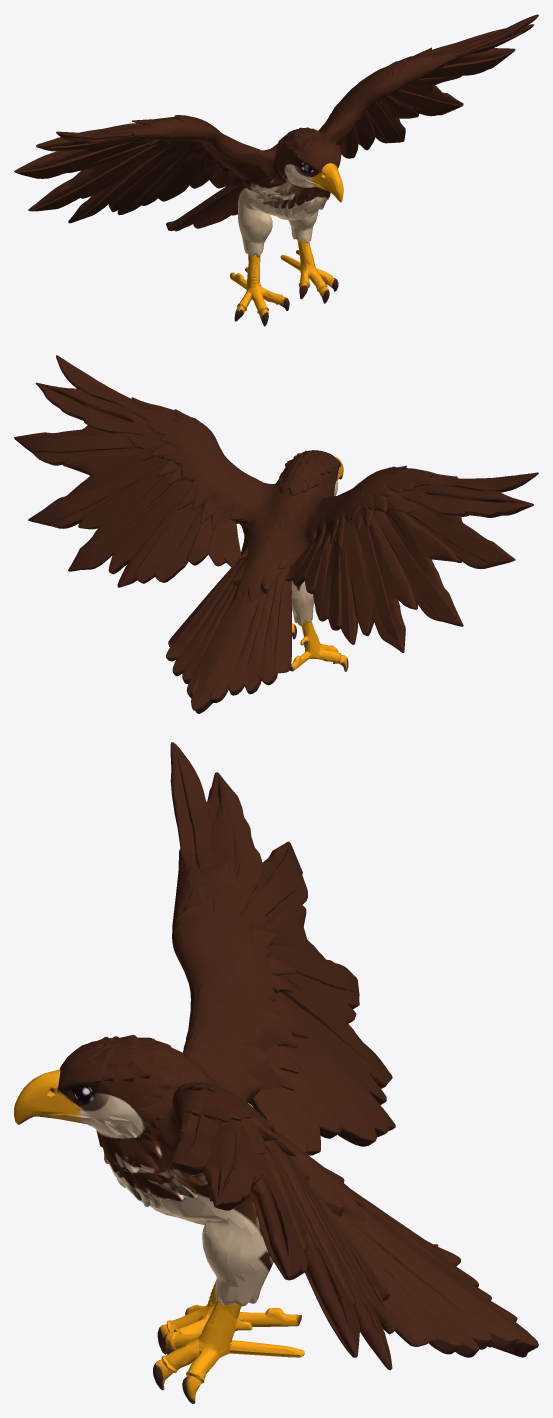
The model's file is hawk.a7627a48.glb.
The picture shows the model from 3 angles, top to bottom: view 1: azimuth 30°, elevation 25°; view 2: azimuth 150°, elevation 25°; view 3: azimuth 270°, elevation 25°; orthographic projection. The views are drawn at different scales.
Parts seen in each view (by area): view 1: output_unwrapped; view 2: output_unwrapped; view 3: output_unwrapped.
Boxes of the visible parts, x1=… form: output_unwrapped: x1=14, y1=14, x2=538, y2=326; output_unwrapped: x1=14, y1=355, x2=538, y2=713; output_unwrapped: x1=14, y1=742, x2=538, y2=1403.
Bounding box in the file's own units: 1.89 × 0.8782 × 0.9647.
Materials: 1 (1 with a texture image).
